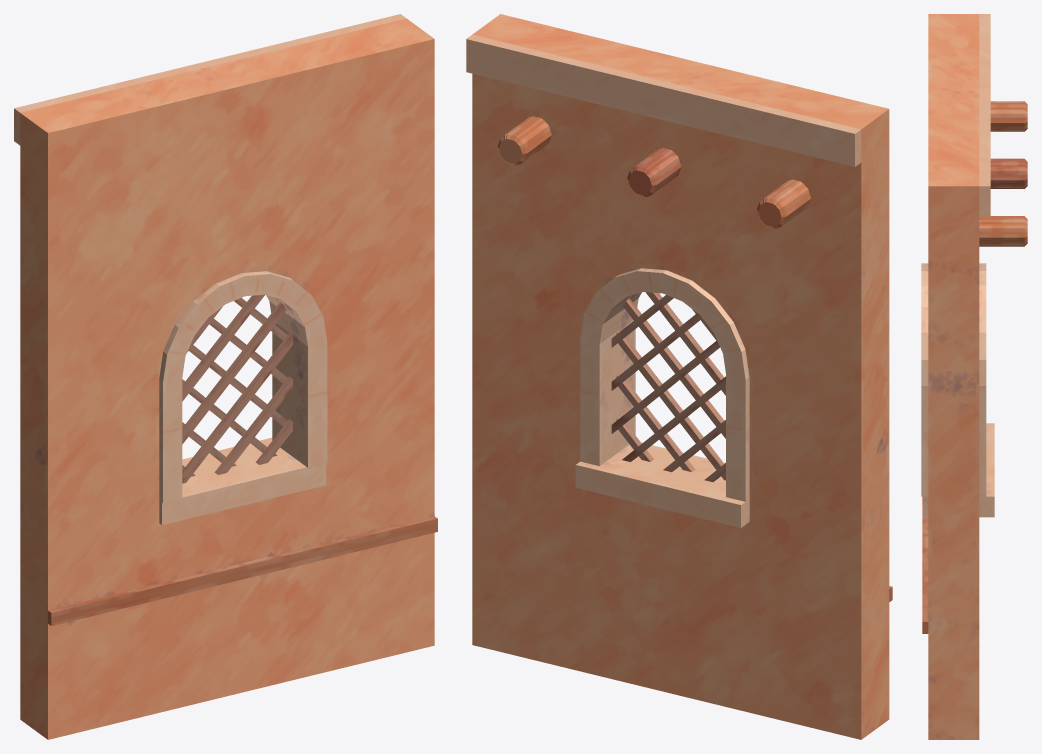
Rendered from wall2_upper_window.bundle.fbx.
3 views of the same model, side by side, from view 1: azimuth 30°, elevation 25°; view 2: azimuth 150°, elevation 25°; view 3: azimuth 270°, elevation 25° (orthographic). The views are drawn at different scales.
Parts seen in each view (by area): view 1: wall2_upper_window, wall2_upper_window_s06, wall2_upper_window_s01, wall2_upper_window_s07, wall2_upper_window_s02, wall2_upper_window_s08, wall2_upper_window_s05, wall2_upper_window_s11, wall2_upper_window_s03, wall2_upper_window_s00, wall2_upper_window_s04, wall2_upper_window_s10 (+1 smaller); view 2: wall2_upper_window, wall2_upper_window_s11, wall2_upper_window_s06, wall2_upper_window_s01, wall2_upper_window_s03, wall2_upper_window_s05, wall2_upper_window_s02, wall2_upper_window_s00, wall2_upper_window_s07, wall2_upper_window_s08, wall2_upper_window_s10, wall2_upper_window_s04 (+2 smaller); view 3: wall2_upper_window, wall2_upper_window_s07, wall2_upper_window_s02, wall2_upper_window_s06, wall2_upper_window_s03, wall2_upper_window_s05, wall2_upper_window_s04, wall2_upper_window_s00, wall2_upper_window_low, wall2_upper_window_s09.
Part boxes in pixels (x1,y1,x2,y2): wall2_upper_window: (14, 14, 437, 739); wall2_upper_window_s06: (274, 14, 434, 238); wall2_upper_window_s01: (20, 321, 173, 548); wall2_upper_window_s07: (327, 224, 434, 483); wall2_upper_window_s02: (281, 481, 437, 671); wall2_upper_window_s08: (20, 513, 174, 739); wall2_upper_window_s05: (16, 91, 160, 341); wall2_upper_window_s11: (84, 131, 279, 337); wall2_upper_window_s03: (101, 48, 307, 181); wall2_upper_window_s00: (165, 216, 396, 368); wall2_upper_window_s04: (202, 395, 366, 564); wall2_upper_window_s10: (125, 560, 326, 720); wall2_upper_window: (466, 14, 892, 739); wall2_upper_window_s11: (627, 128, 854, 343); wall2_upper_window_s06: (466, 14, 629, 240); wall2_upper_window_s01: (769, 336, 889, 531); wall2_upper_window_s03: (591, 45, 782, 169); wall2_upper_window_s05: (772, 83, 889, 337); wall2_upper_window_s02: (472, 471, 614, 659); wall2_upper_window_s00: (505, 219, 743, 395); wall2_upper_window_s07: (472, 231, 580, 473); wall2_upper_window_s08: (725, 526, 889, 738); wall2_upper_window_s10: (633, 564, 785, 719); wall2_upper_window_s04: (533, 374, 708, 556); wall2_upper_window: (921, 14, 1027, 739); wall2_upper_window_s07: (921, 356, 979, 589); wall2_upper_window_s02: (922, 557, 979, 739); wall2_upper_window_s06: (928, 130, 990, 362); wall2_upper_window_s03: (928, 50, 990, 130); wall2_upper_window_s05: (928, 14, 990, 60); wall2_upper_window_s04: (921, 434, 994, 557); wall2_upper_window_s00: (921, 264, 986, 434); wall2_upper_window_low: (979, 102, 1027, 246); wall2_upper_window_s09: (986, 423, 994, 455).
Bounding box in the file's own units: 8 × 12 × 2.09.
Materials: 1 (1 with a texture image).
